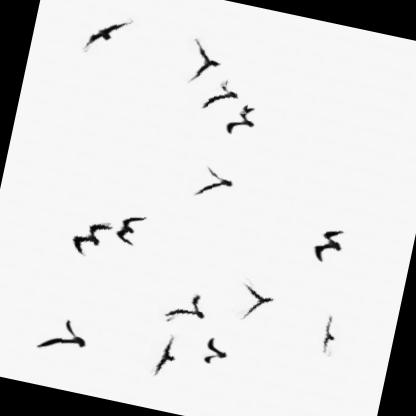bird: (71, 2, 146, 64), (29, 308, 98, 362), (227, 271, 290, 328), (157, 281, 221, 334), (178, 30, 235, 89), (180, 156, 245, 205), (142, 326, 198, 382), (191, 71, 252, 120), (64, 210, 117, 264), (303, 306, 357, 359), (301, 220, 359, 268), (109, 204, 161, 250), (218, 99, 274, 141), (197, 328, 248, 372)
